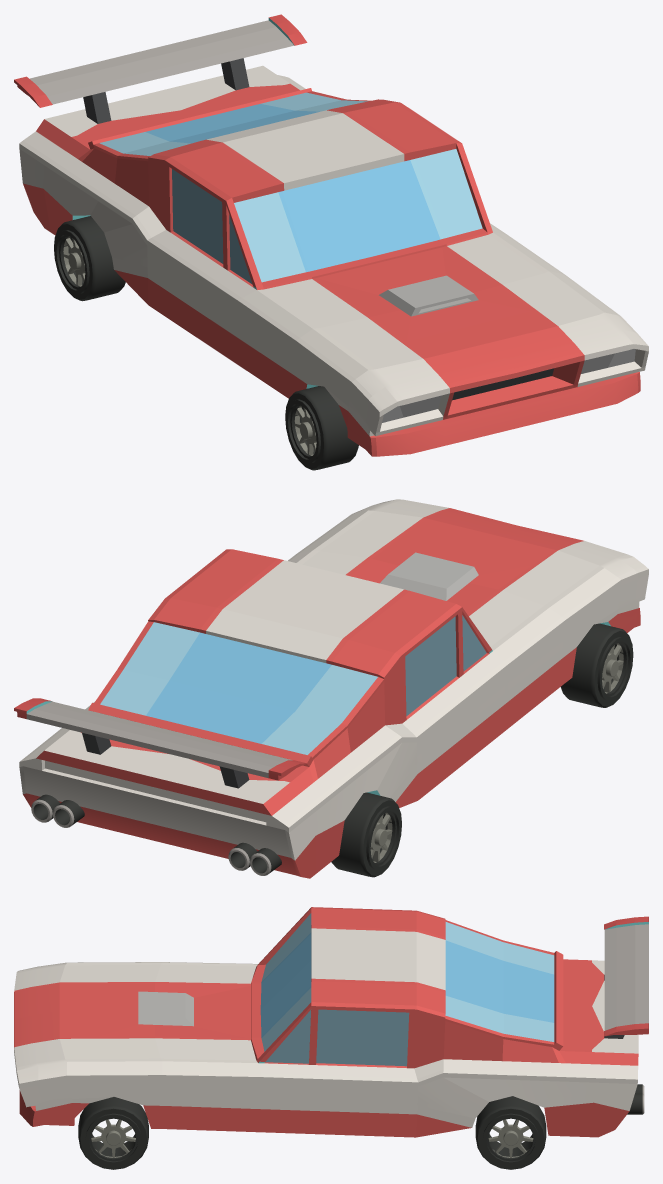
File: car.fbx
3 views of the same model, one above another, from view 1: azimuth 30°, elevation 25°; view 2: azimuth 150°, elevation 25°; view 3: azimuth 270°, elevation 25° (orthographic). The views are drawn at different scales.
Visible parts, largest first — view 1: polySurface94, polySurface77, polySurface101, polySurface93, polySurface103, polySurface79, polySurface95, polySurface102, polySurface92, polySurface67, polySurface72, polySurface78 (+8 smaller); view 2: polySurface94, polySurface77, polySurface95, polySurface79, polySurface103, polySurface102, polySurface72, polySurface92, polySurface67, polySurface96, polySurface78, polySurface82 (+6 smaller); view 3: polySurface77, polySurface94, polySurface64, polySurface85, polySurface100, polySurface95, polySurface79, polySurface67, polySurface93, polySurface101, polySurface92, polySurface81 (+4 smaller).
Boxes of the visible parts, x1,y1,x2,y2 form: polySurface94: (19, 110, 517, 456); polySurface77: (181, 75, 648, 428); polySurface101: (234, 176, 373, 282); polySurface93: (344, 149, 482, 255); polySurface103: (285, 386, 358, 470); polySurface79: (267, 110, 404, 175); polySurface95: (207, 125, 344, 190); polySurface102: (54, 216, 125, 301); polySurface92: (148, 20, 293, 74); polySurface67: (29, 50, 173, 104); polySurface72: (172, 169, 223, 263); polySurface78: (154, 65, 289, 110); polySurface94: (153, 525, 648, 878); polySurface77: (19, 499, 516, 843); polySurface95: (266, 575, 403, 662); polySurface79: (206, 560, 343, 648); polySurface103: (561, 623, 633, 707); polySurface102: (331, 792, 401, 877); polySurface72: (405, 616, 456, 716); polySurface92: (26, 701, 172, 748); polySurface67: (147, 731, 292, 778); polySurface96: (154, 756, 289, 803); polySurface78: (44, 730, 179, 777); polySurface82: (413, 559, 478, 600); polySurface77: (14, 968, 638, 1137); polySurface94: (14, 907, 604, 1019); polySurface64: (316, 1009, 409, 1066); polySurface85: (475, 1096, 546, 1169); polySurface100: (78, 1097, 148, 1169); polySurface95: (311, 928, 445, 964); polySurface79: (311, 953, 445, 990); polySurface67: (604, 924, 648, 980); polySurface93: (260, 960, 311, 1051); polySurface101: (260, 913, 311, 1009); polySurface92: (604, 975, 648, 1030); polySurface81: (265, 1009, 311, 1063).
Size of the model in its own units: 8.02 by 4.34 by 16.36.
